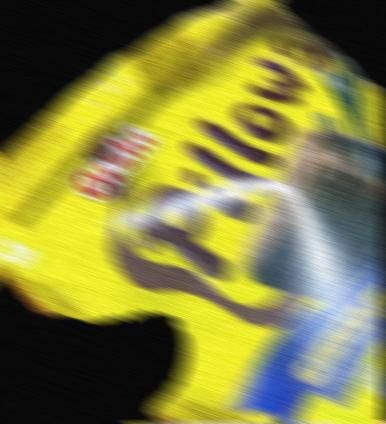Afritada: (380, 422, 386, 424)
Tomi: (127, 422, 386, 424)
pillows: (0, 0, 386, 424)
